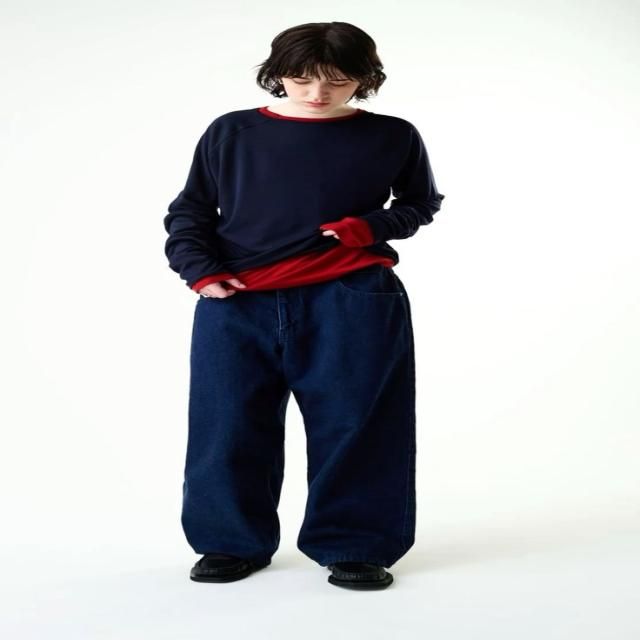9_cabeza_baja: (254, 22, 384, 114)
